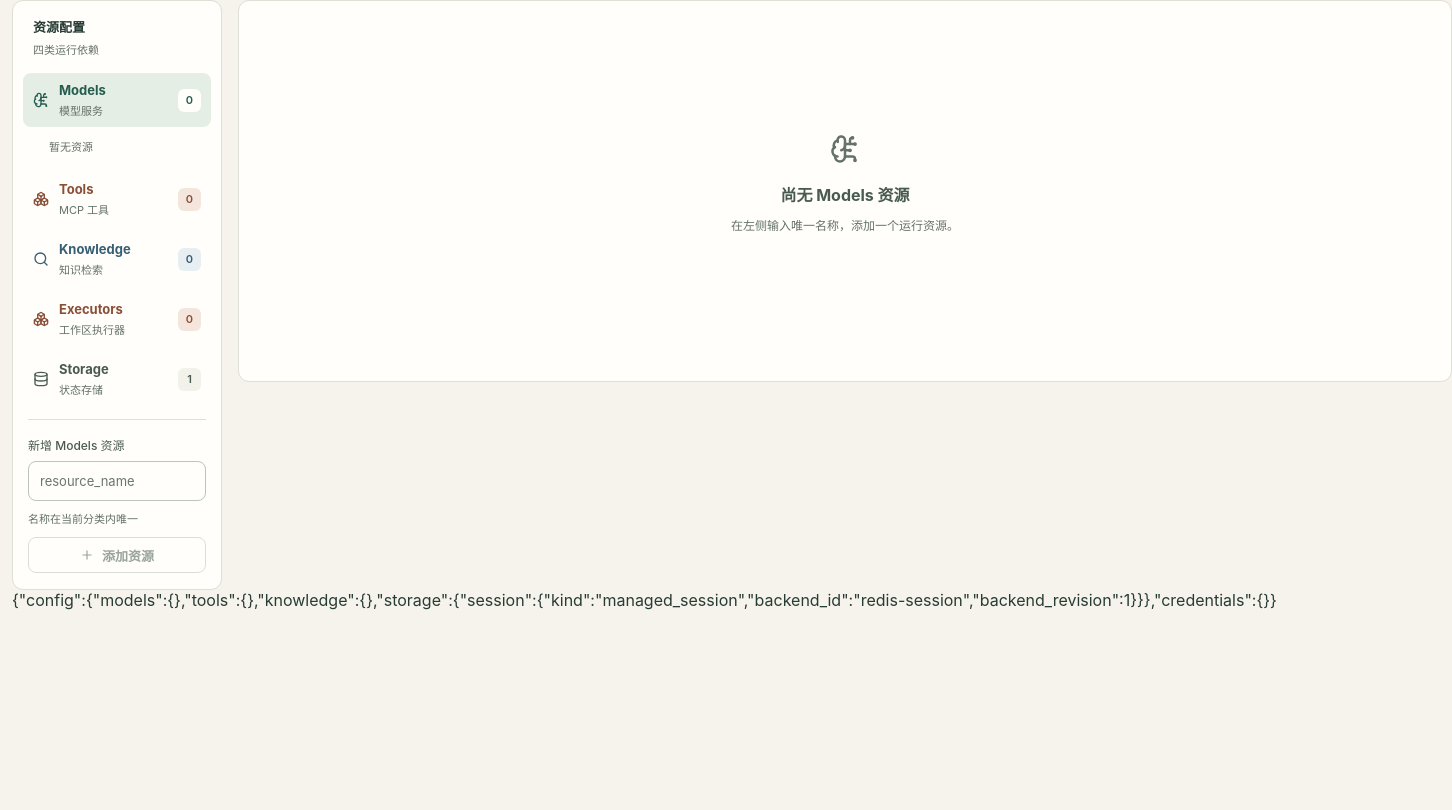
Test: preserves status but pauses password editing for unavailable Redis
Click the button with aria-label "Storage ·" at (117, 379), box left=23, top=352, right=211, bottom=406
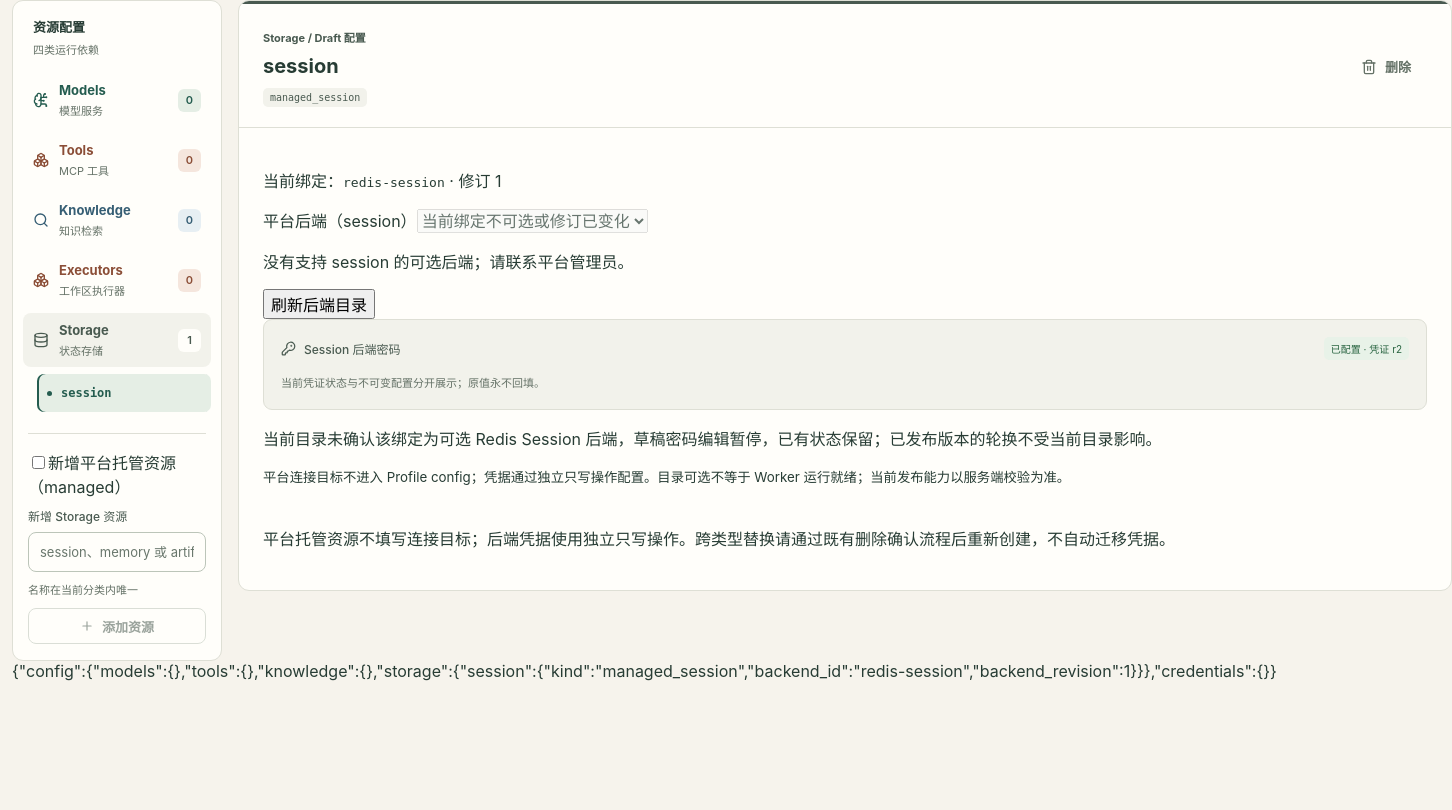
Expected: the text "已配置 · 凭证 r2" is shown, left=1324, top=337, right=1409, bottom=360
Expected: the button "刷新后端目录" is enabled, left=263, top=289, right=375, bottom=319
Expected: the element "Session 后端密码" shows "凭证 r2", left=1331, top=343, right=1402, bottom=355
